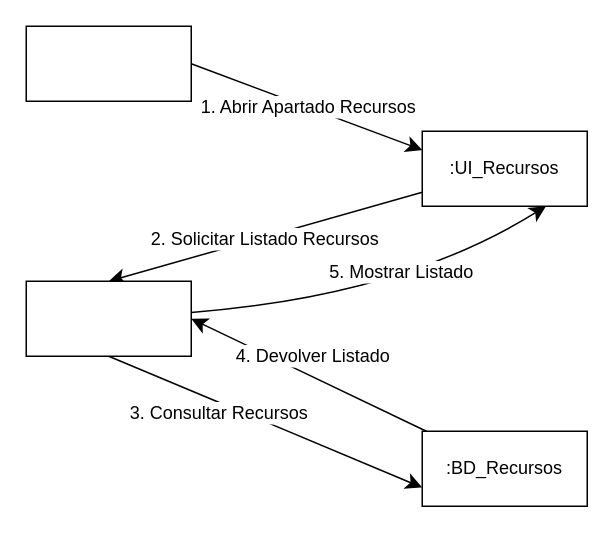
Image size: 614x533. Some labels were removed from this diagram. The shapes that lost their labels are listed below. From the top down, each one's centre as x and y in pixels, then its label:
point 108,63: :Administrador
point 108,318: :SistemaRecursos
